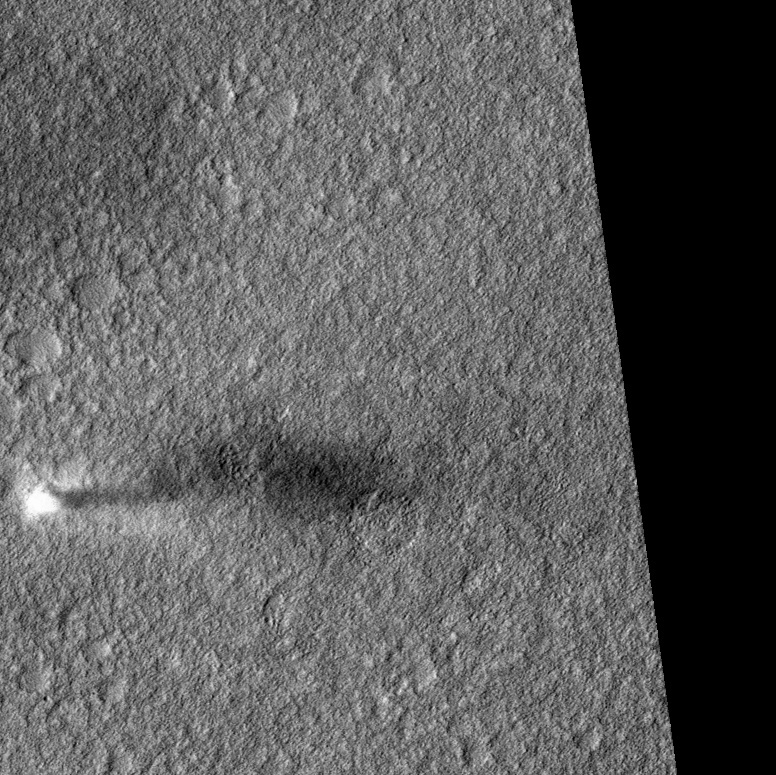dust_devil: (22, 431, 413, 532)
